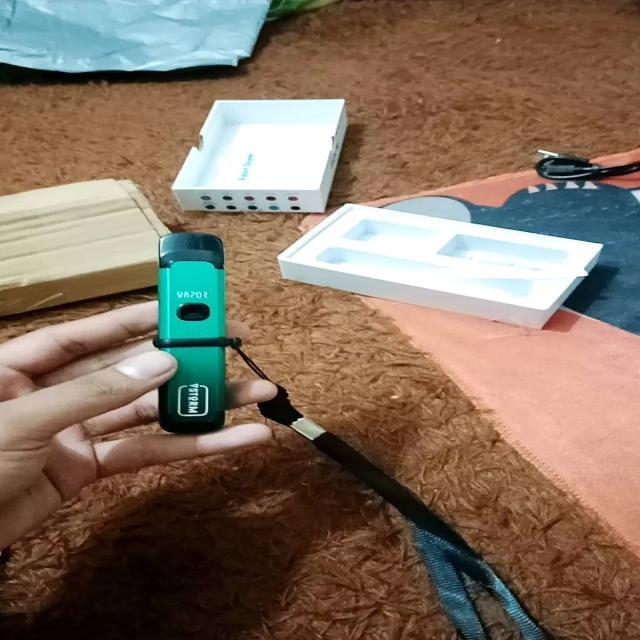Hazard: (154, 228, 228, 438)
